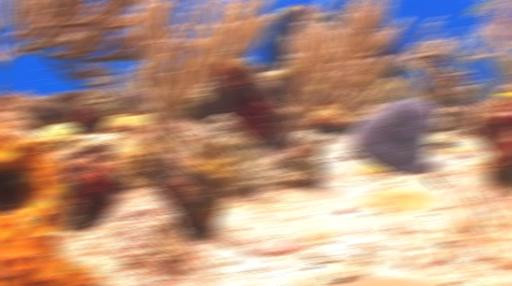Fish: (467, 0, 492, 16), (278, 5, 295, 15), (495, 92, 511, 97)
